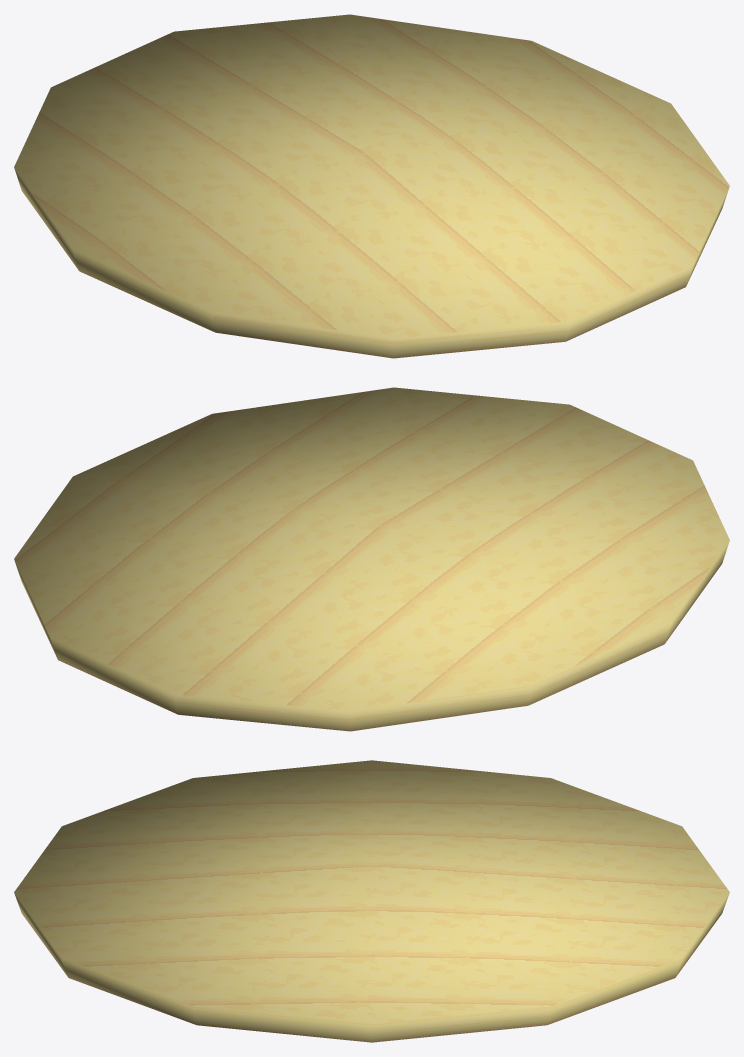
The model's file is 1106item577.gltf.
3 views of the same model, one above another, from view 1: azimuth 30°, elevation 25°; view 2: azimuth 150°, elevation 25°; view 3: azimuth 270°, elevation 25° (orthographic). The views are drawn at different scales.
Parts seen in each view (by area): view 1: 1106item577; view 2: 1106item577; view 3: 1106item577.
Boxes of the visible parts, x1,y1,x2,y2 form: 1106item577: [14, 14, 729, 358]; 1106item577: [14, 387, 729, 731]; 1106item577: [14, 760, 729, 1042].
Bounding box in the file's own units: 0.6504 × 0.051 × 0.7456.
Materials: 1 (1 with a texture image).
